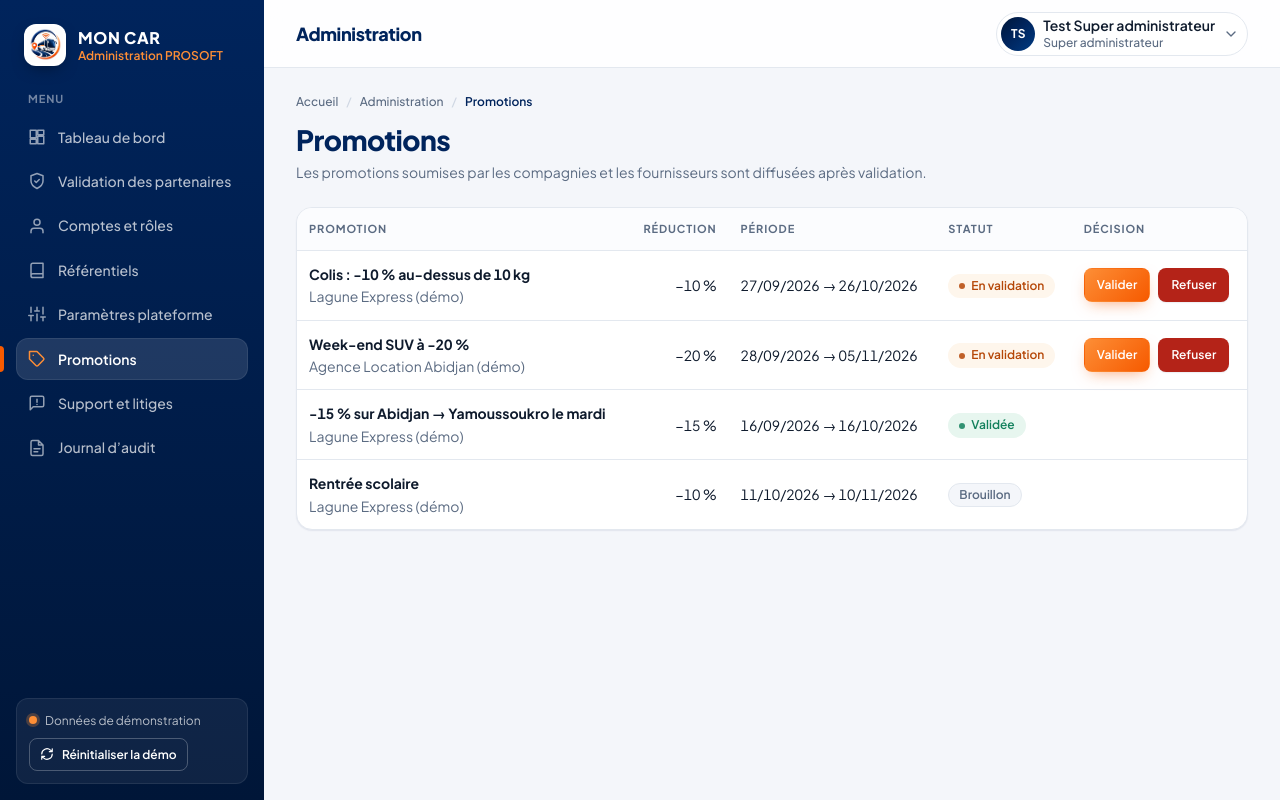
Test case: Finances, promotions, paramètres, litiges › PROSOFT refuse une promotion avec un motif
Click the button "Refuser" in the row of "Week-end SUV à -20 %" at (1194, 355), box [1158,338,1229,372]
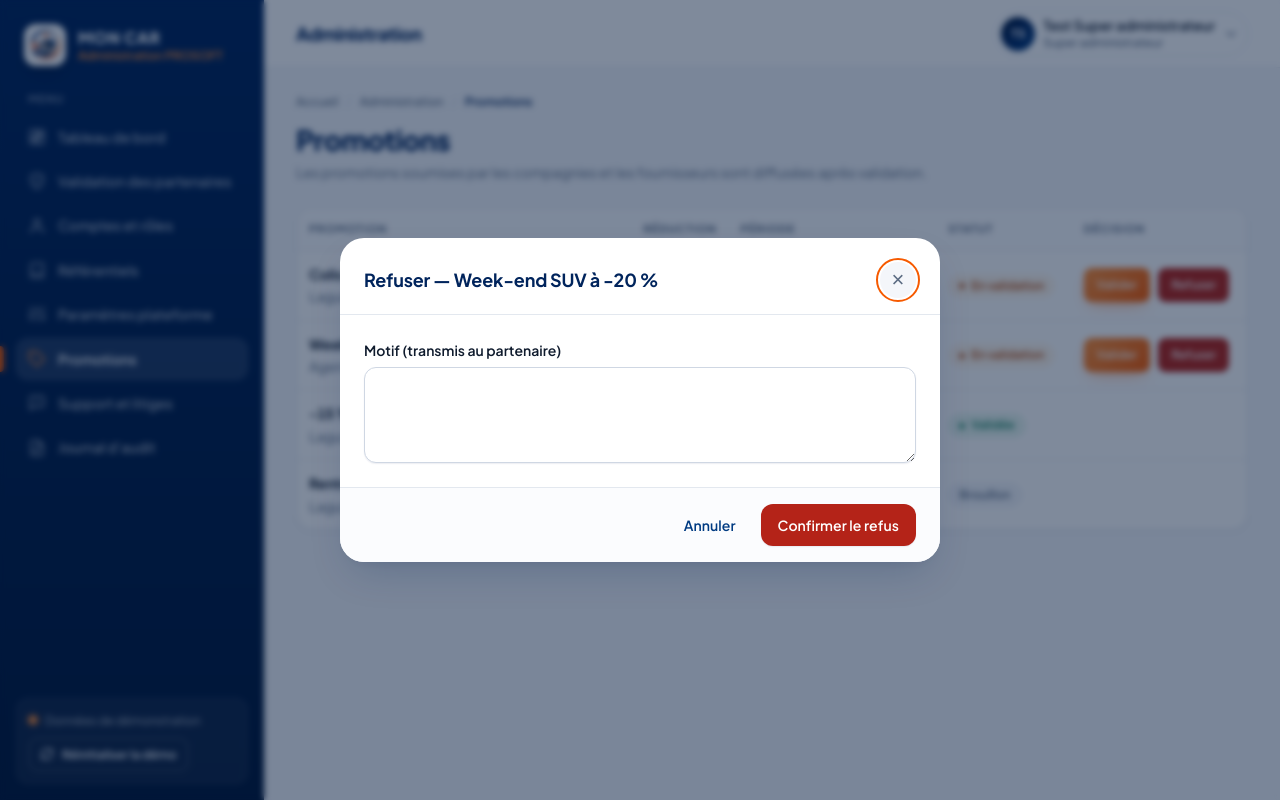
Click the button "Confirmer le refus" at (838, 525), box [761,504,916,546]
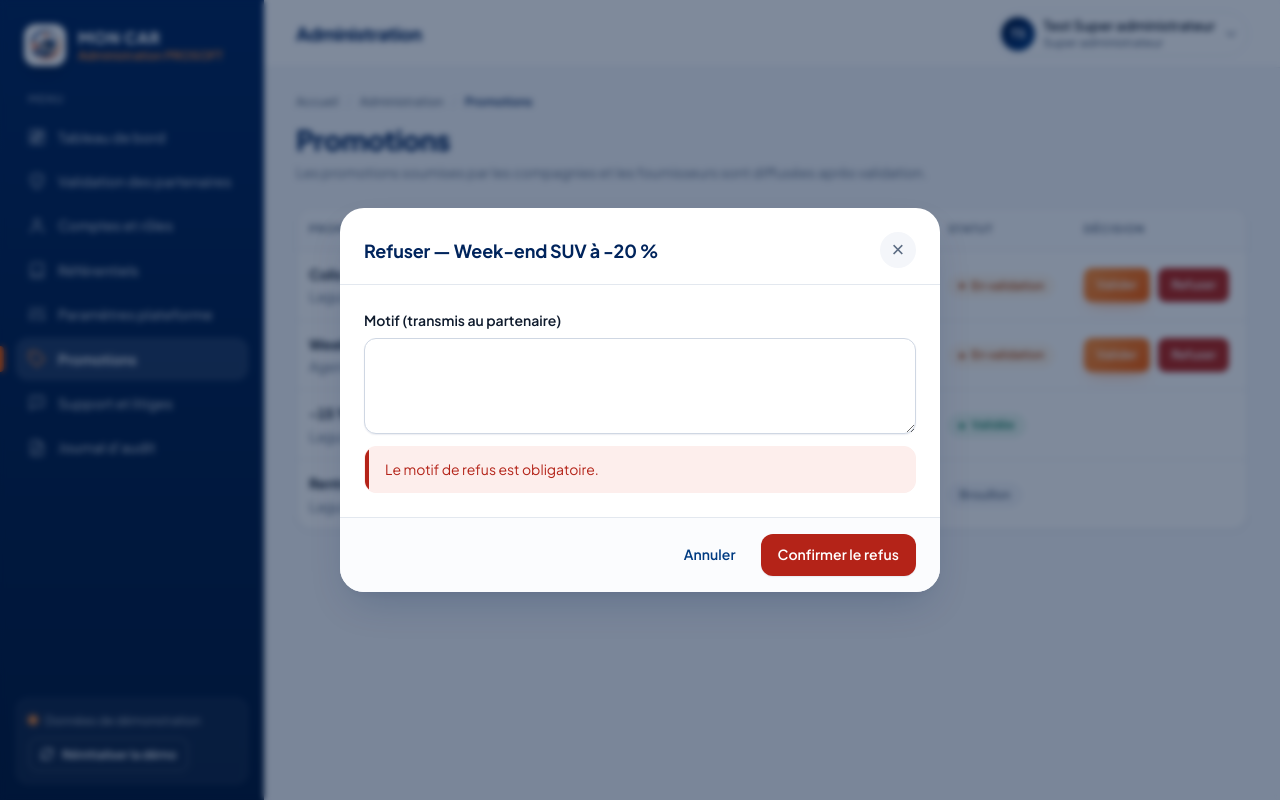
Expected: the text "Le motif de refus est obligatoire." is shown, [385,459,599,480]
Type "Conditions de la réduction à préciser" into the text box labelled "Motif (transmis au partenaire)" at (640, 386), box [364,338,916,434]
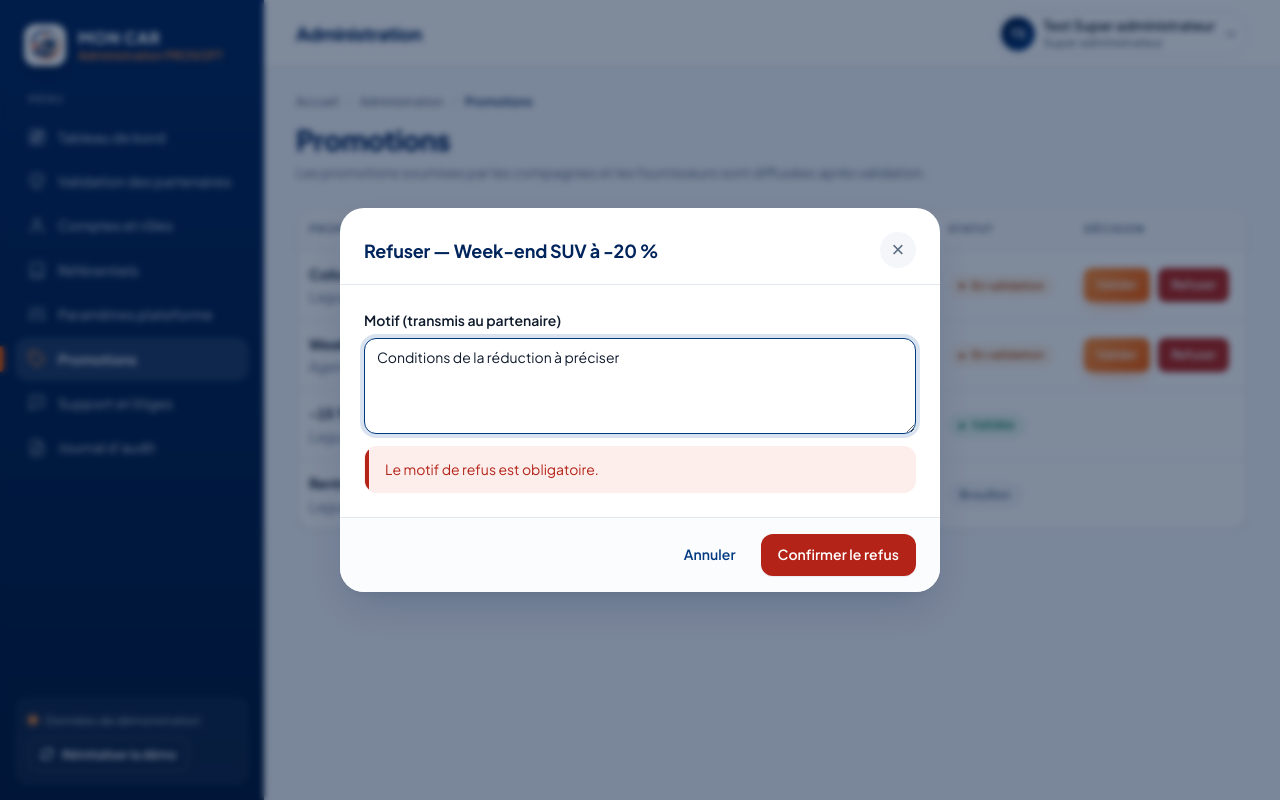
Click the button "Confirmer le refus" at (838, 555), box [761,534,916,576]
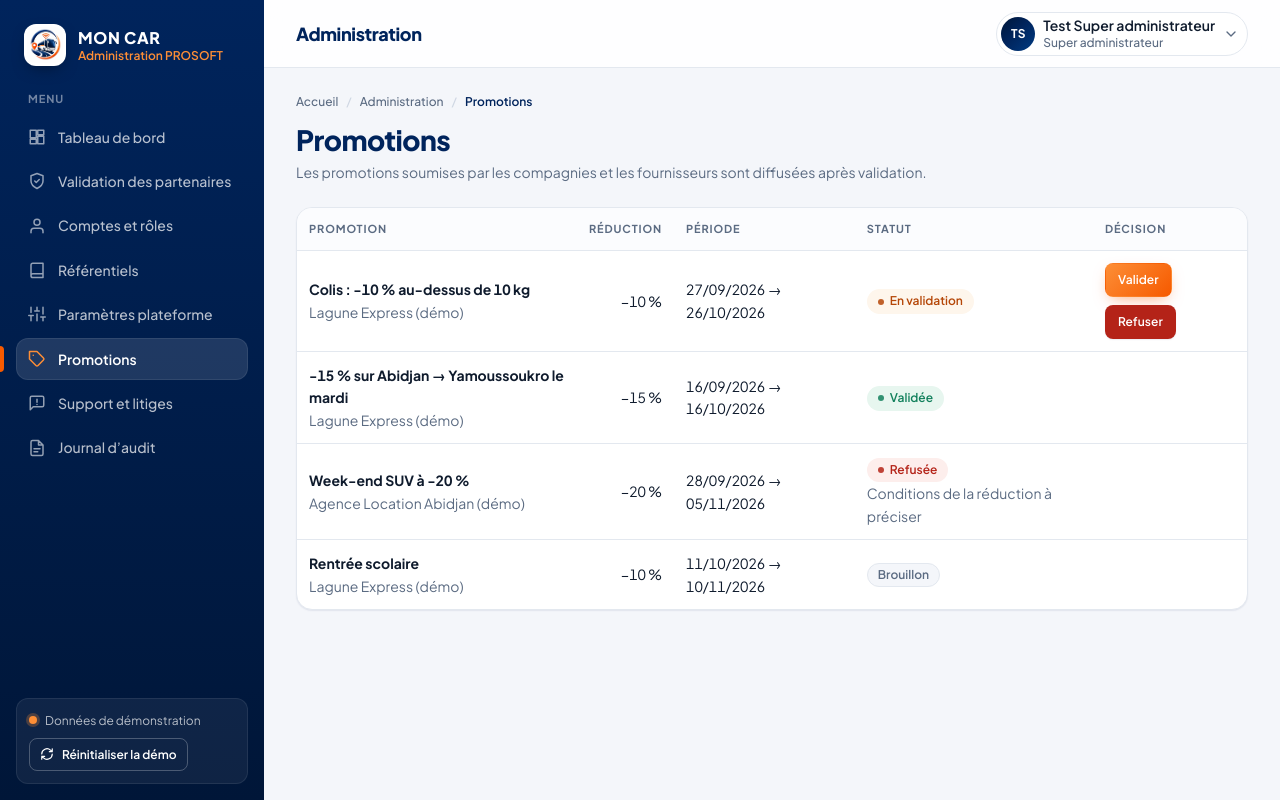
Expected: the text "Conditions de la réduction à préciser" is shown, [867,484,1052,525]
